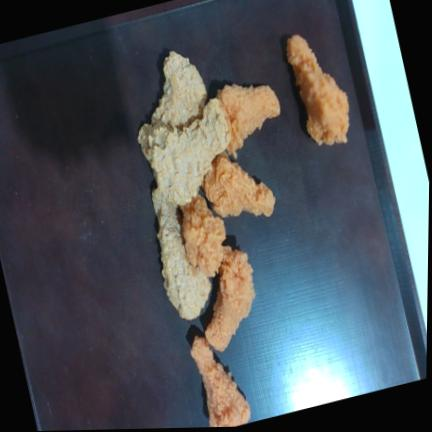chicken: (139, 99, 231, 205), (153, 188, 211, 319), (287, 35, 349, 145), (191, 336, 250, 427), (205, 246, 255, 350), (217, 85, 280, 157), (203, 155, 276, 217), (152, 51, 207, 129), (181, 194, 226, 277)
